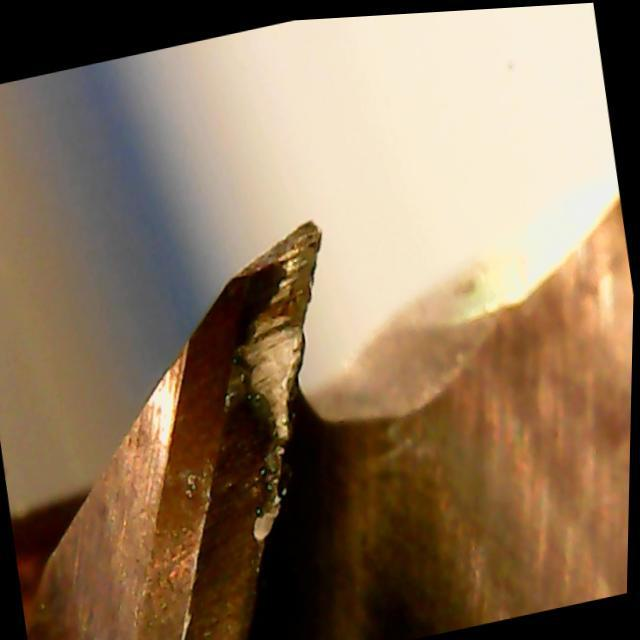Tool-wear-class-2: (158, 205, 365, 471)
